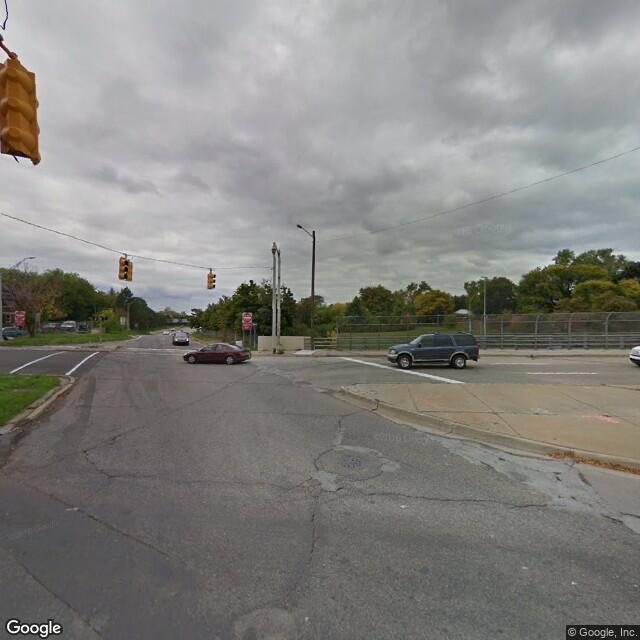litter: (18, 421, 29, 428)
